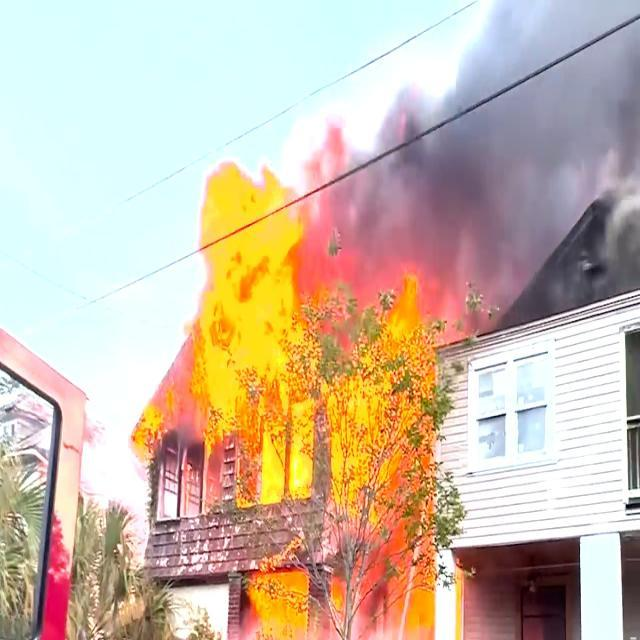Fire: (202, 175, 310, 494), (328, 322, 426, 534), (244, 570, 300, 636)
Smoke: (340, 0, 640, 190)
